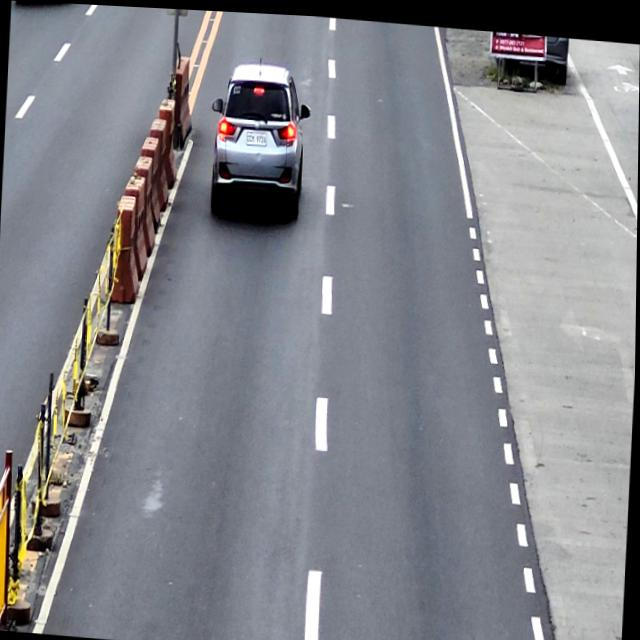Car: (208, 57, 312, 219)
License-Plate: (245, 128, 268, 144)
